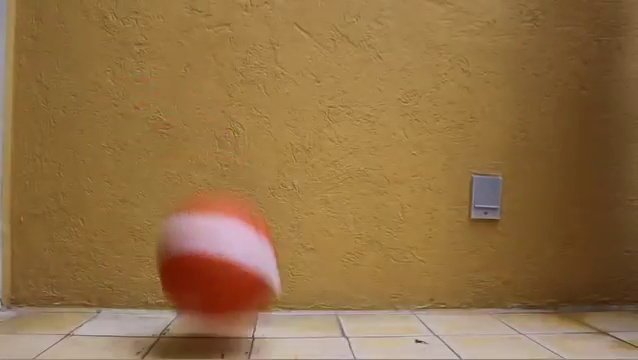ball: (159, 192, 282, 327)
